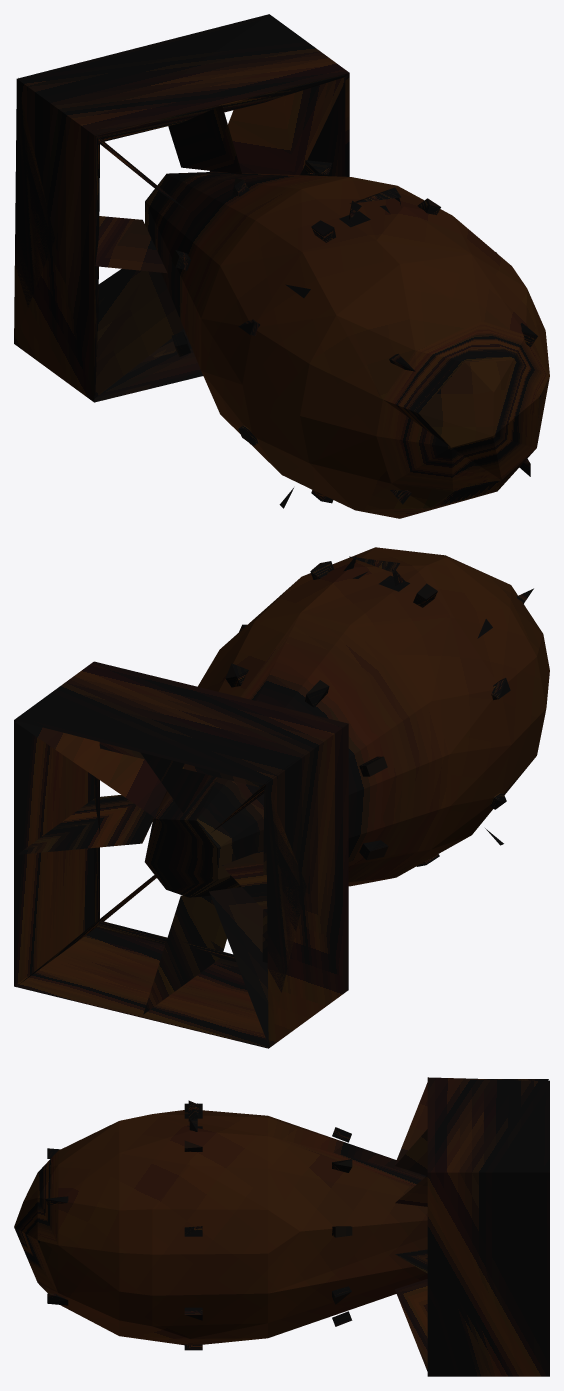
3 renders of one model, top to bottom at view 1: azimuth 30°, elevation 25°; view 2: azimuth 150°, elevation 25°; view 3: azimuth 270°, elevation 25°, orthographic. The views are drawn at different scales.
Parts seen in each view (by area): view 1: Fat_Man_FatMan_0; view 2: Fat_Man_FatMan_0; view 3: Fat_Man_FatMan_0.
Part boxes in pixels (left/top/right/bottom): Fat_Man_FatMan_0: left=14, top=14, right=549, bottom=518; Fat_Man_FatMan_0: left=14, top=547, right=549, bottom=1048; Fat_Man_FatMan_0: left=14, top=1077, right=549, bottom=1376.
Size of the model in its own units: 2.62 by 2.78 by 5.98.
Materials: 1 (1 with a texture image).
